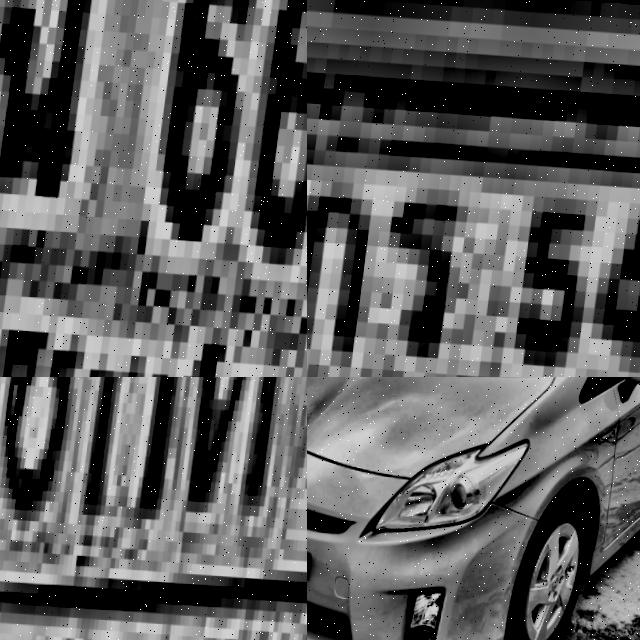license-plate: (0, 0, 307, 377), (307, 78, 640, 377), (0, 377, 307, 640)
